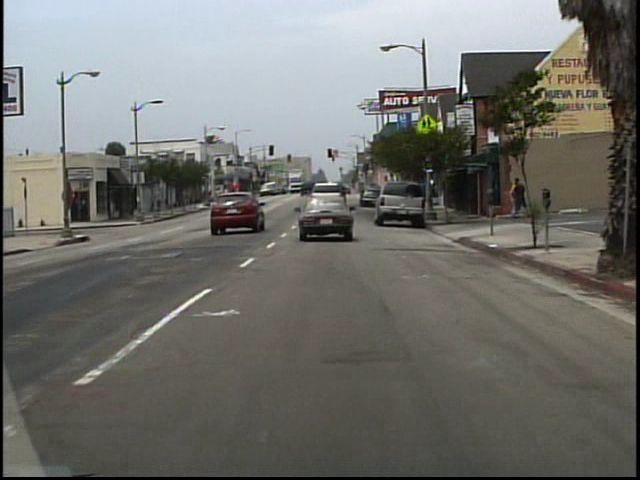person: (506, 182, 519, 219), (515, 177, 527, 217)
